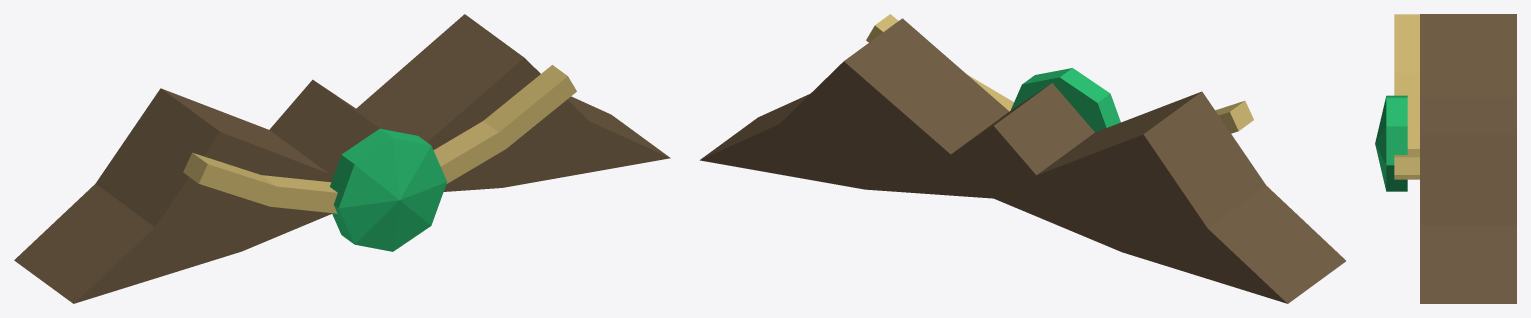
Rendered from wing.obj.
3 views of the same model, side by side, from view 1: azimuth 30°, elevation 25°; view 2: azimuth 150°, elevation 25°; view 3: azimuth 270°, elevation 25° (orthographic). The views are drawn at different scales.
Visible parts, largest first — view 1: wing_guard_edge, wing_guard, wing_gem, wing_edge_-0.34, wing_edge_0.34, wing_edge_0.34_edge, wing_edge_-0.34_edge; view 2: wing_guard, wing_guard_edge, wing_gem, wing_edge_-0.34_edge, wing_edge_0.34_edge; view 3: wing_guard_edge, wing_edge_-0.34_edge, wing_gem, wing_edge_0.34_edge.
Boxes of the visible parts, x1,y1,x2,y2 form: wing_guard_edge: [14, 14, 669, 303]; wing_guard: [74, 57, 670, 303]; wing_gem: [330, 128, 446, 251]; wing_edge_-0.34: [199, 164, 337, 213]; wing_edge_0.34: [441, 76, 576, 183]; wing_edge_0.34_edge: [433, 65, 567, 166]; wing_edge_-0.34_edge: [183, 152, 337, 192]; wing_guard: [700, 61, 1287, 303]; wing_guard_edge: [700, 18, 1345, 303]; wing_gem: [1010, 68, 1120, 132]; wing_edge_-0.34_edge: [1215, 101, 1253, 130]; wing_edge_0.34_edge: [875, 14, 1013, 111]; wing_guard_edge: [1420, 14, 1516, 303]; wing_edge_-0.34_edge: [1394, 14, 1419, 148]; wing_gem: [1375, 95, 1407, 191]; wing_edge_0.34_edge: [1394, 149, 1419, 179].
Bounding box in the file's own units: 1.1 × 0.25 × 0.278.
